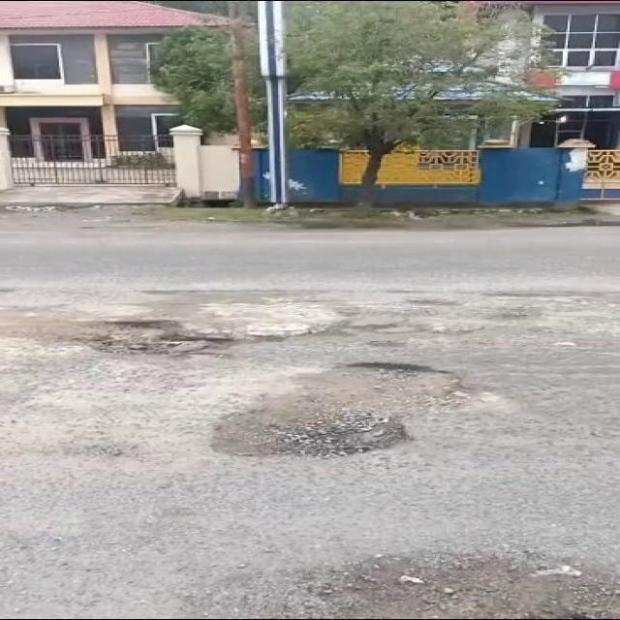lubang: (212, 363, 476, 457), (71, 316, 249, 354)
